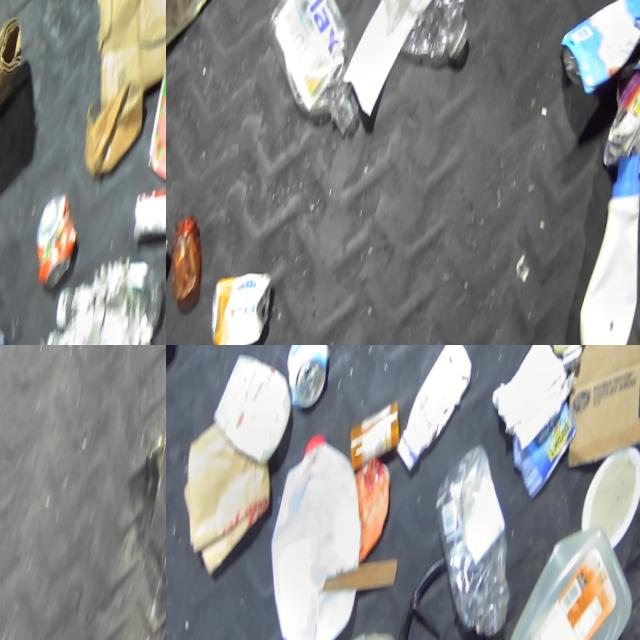can: (340, 456, 400, 569), (25, 186, 87, 294), (203, 265, 278, 345), (275, 345, 341, 419)
milk_jug: (248, 425, 389, 640), (485, 515, 640, 640), (207, 349, 302, 471)
non_white_jug: (550, 0, 640, 115)
plastic_bottle: (409, 443, 540, 640), (247, 0, 390, 150), (370, 0, 491, 74)
